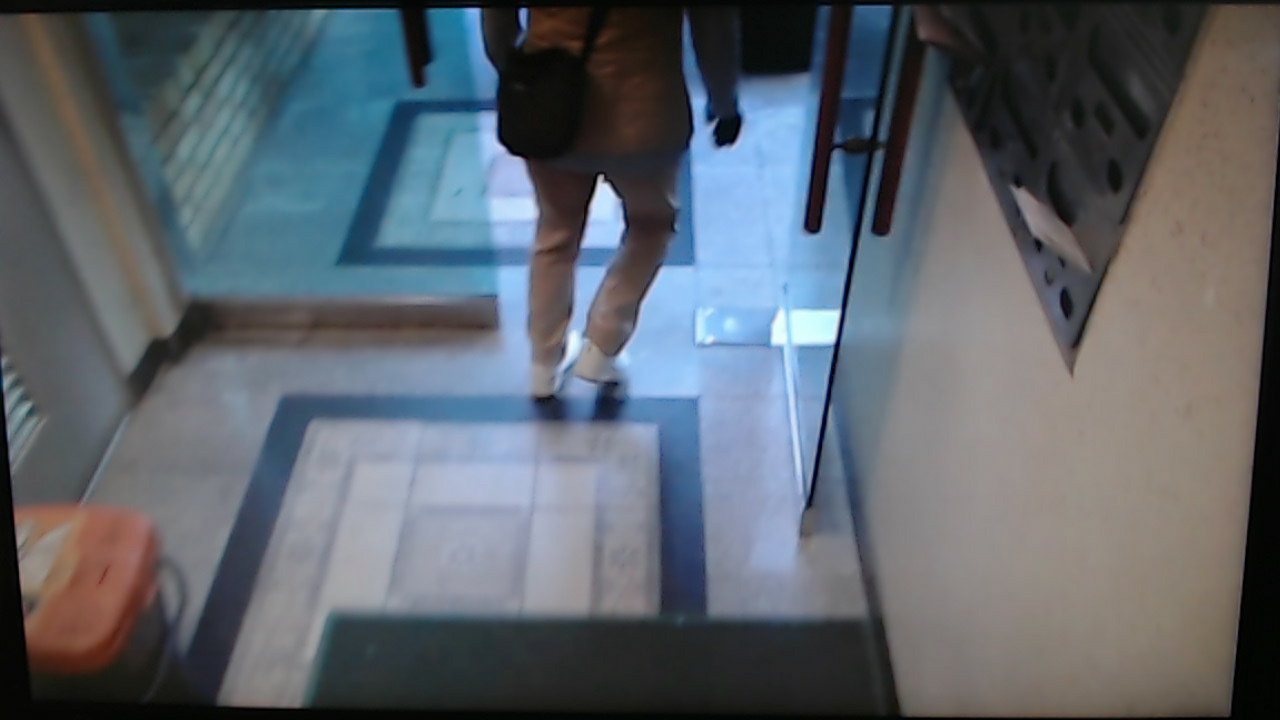Yakurut: (467, 11, 759, 420)
